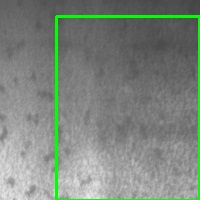pitted_surface: (56, 16, 199, 200)
